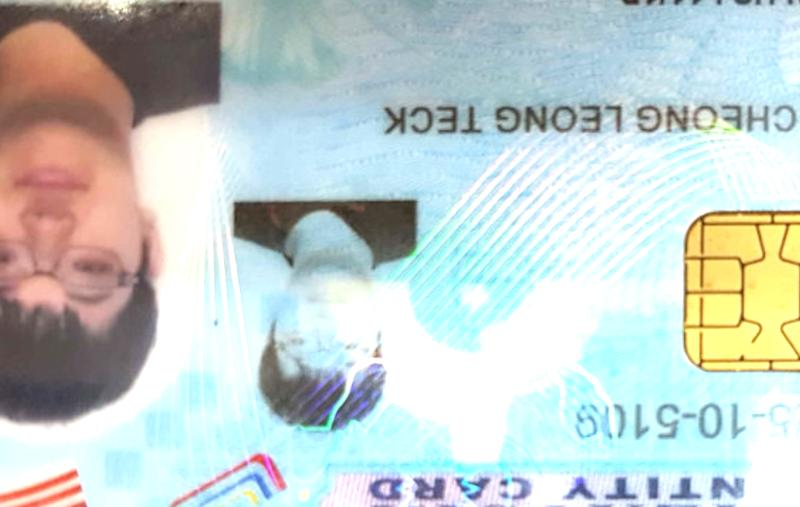hologram: (426, 143, 680, 353)
